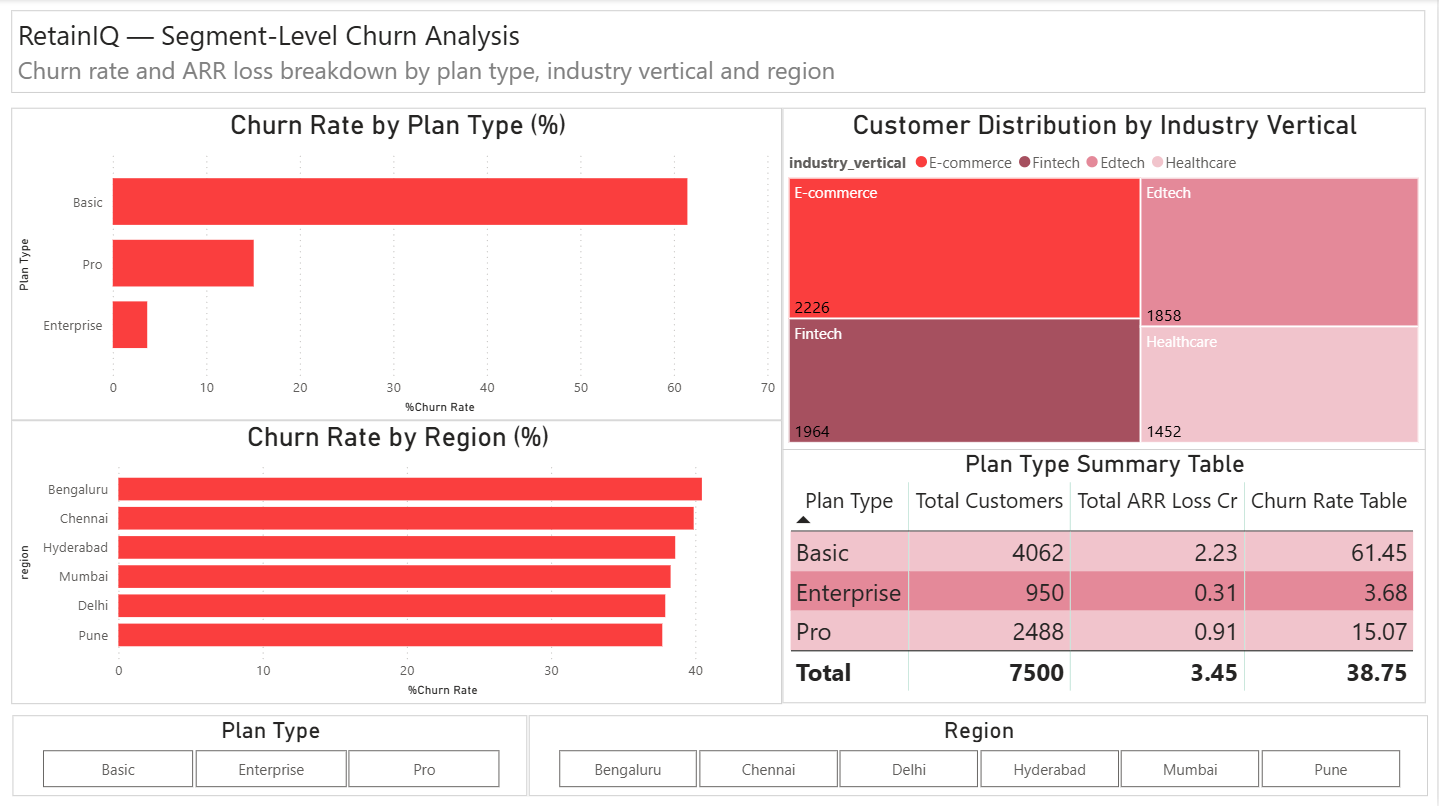

The dashboard page shown, as its layout file describes it:
{"tool":"powerbi","page":{"name":"Segment Deep Dive","canvas":[1280,720],"ordinal":1},"visuals":[{"type":"clusteredBarChart","title":"Churn Rate by Plan Type (%)","fields":{"Category":["customers.plan_type"],"Y":["customers.%Churn Rate"]},"box":[10.1,96.7,686.8,278.5],"z":0},{"type":"treemap","title":"Customer Distribution by Industry Vertical","fields":{"Group":["customers.industry_vertical"],"Values":["customers.Total Customers"]},"box":[696.9,96.7,572.8,304.4],"z":1000},{"type":"clusteredBarChart","title":"Churn Rate by Region (%)","fields":{"Category":["customers.region"],"Y":["customers.%Churn Rate"]},"box":[10.1,375.1,686.8,252.5],"z":2000},{"type":"tableEx","title":"Plan Type Summary Table","fields":{"Values":["customers.plan_type","customers.Total Customers","customers.Total ARR Loss Cr","customers.Churn Rate Table"]},"box":[696.9,401.1,572.8,226.5],"z":3000},{"type":"slicer","title":"Plan Type","fields":{"Values":["customers.plan_type"]},"box":[11.5,637.7,458.8,72.1],"z":4000},{"type":"slicer","title":"Region","fields":{"Values":["customers.region"]},"box":[470.3,637.7,800.7,72.1],"z":5000},{"type":"textbox","box":[10.1,10.1,1259.5,73.6],"z":5001}]}

Visuals, with their boxes in screenshot pixels (x1, y1, x2, y2), scaled from the page's 1280x720 canvas onto the 1439x806 screenshot:
"Churn Rate by Plan Type (%)" clusteredBarChart: <bbox>11, 108, 783, 420</bbox>
"Customer Distribution by Industry Vertical" treemap: <bbox>783, 108, 1427, 449</bbox>
"Churn Rate by Region (%)" clusteredBarChart: <bbox>11, 420, 783, 703</bbox>
"Plan Type Summary Table" tableEx: <bbox>783, 449, 1427, 703</bbox>
"Plan Type" slicer: <bbox>13, 714, 529, 795</bbox>
"Region" slicer: <bbox>529, 714, 1429, 795</bbox>
textbox: <bbox>11, 11, 1427, 94</bbox>
